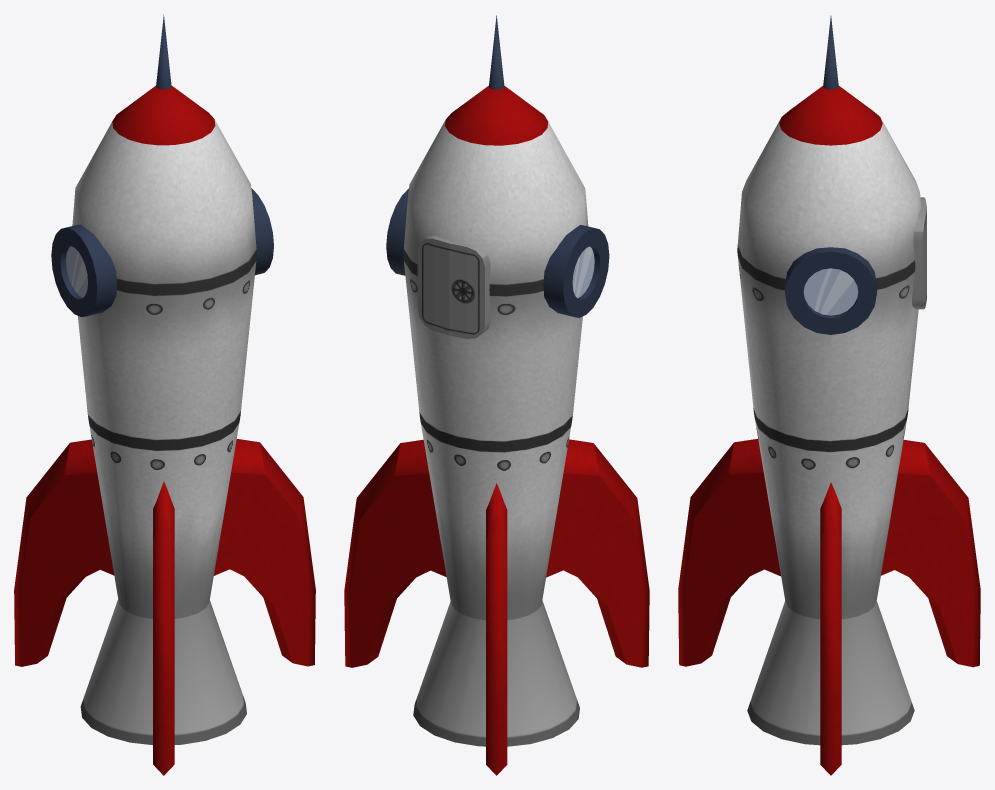
The model's file is Rocket.fbx.
3 renders of one model, left to right at view 1: azimuth 30°, elevation 25°; view 2: azimuth 150°, elevation 25°; view 3: azimuth 270°, elevation 25°, orthographic.
Parts seen in each view (by area): view 1: Rocket; view 2: Rocket, Rocket_door; view 3: Rocket, Rocket_door.
Part boxes in pixels (bbox=[...]): Rocket: bbox=[14, 14, 315, 775]; Rocket: bbox=[344, 15, 649, 775]; Rocket_door: bbox=[417, 236, 491, 338]; Rocket: bbox=[678, 15, 980, 775]; Rocket_door: bbox=[912, 197, 926, 309].
Bounding box in the file's own units: 3.58 × 9.86 × 3.88.
